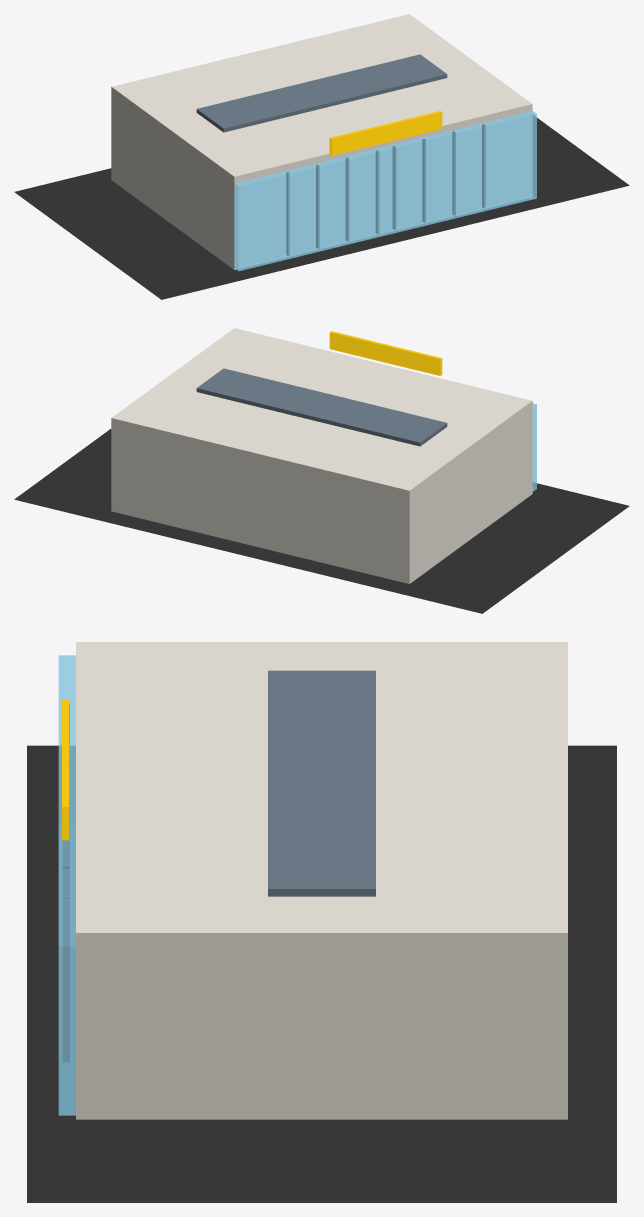
The model's file is bigbox_2005.glb.
3 views of the same model, one above another, from view 1: azimuth 30°, elevation 25°; view 2: azimuth 150°, elevation 25°; view 3: azimuth 270°, elevation 25° (orthographic). The views are drawn at different scales.
Parts seen in each view (by area): view 1: main_block, glass_facade, pavement, entry_canopy, bigbox_2005, led_sign; view 2: main_block, pavement, entry_canopy, led_sign, glass_facade; view 3: main_block, pavement, entry_canopy, glass_facade, bigbox_2005, led_sign.
Boxes of the visible parts, bbox=[...] form: main_block: bbox=[111, 14, 532, 269]; glass_facade: bbox=[234, 111, 536, 271]; pavement: bbox=[14, 115, 629, 299]; entry_canopy: bbox=[196, 54, 447, 132]; bigbox_2005: bbox=[286, 124, 485, 255]; led_sign: bbox=[329, 111, 442, 155]; main_block: bbox=[111, 328, 532, 583]; pavement: bbox=[14, 429, 629, 613]; entry_canopy: bbox=[196, 368, 447, 446]; led_sign: bbox=[329, 331, 442, 375]; glass_facade: bbox=[532, 403, 536, 491]; main_block: bbox=[76, 642, 567, 1119]; pavement: bbox=[27, 745, 616, 1202]; entry_canopy: bbox=[268, 670, 375, 896]; glass_facade: bbox=[58, 655, 75, 1115]; bigbox_2005: bbox=[62, 704, 69, 1062]; led_sign: bbox=[62, 699, 69, 840].
Bounding box in the file's own units: 22 × 4.97 × 12.
